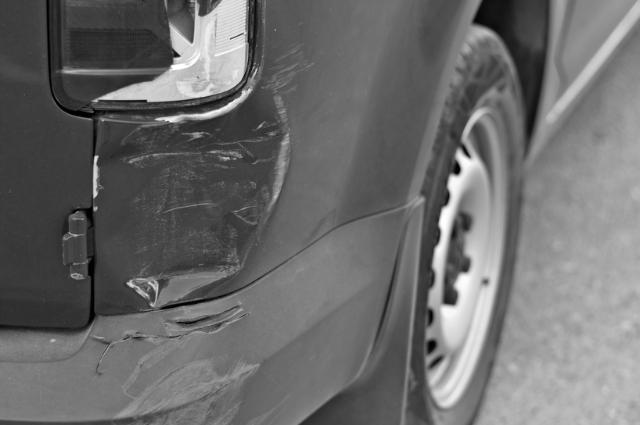Bumper: (71, 318, 297, 425)
Fender: (97, 107, 365, 291)
Light: (89, 1, 249, 105)
